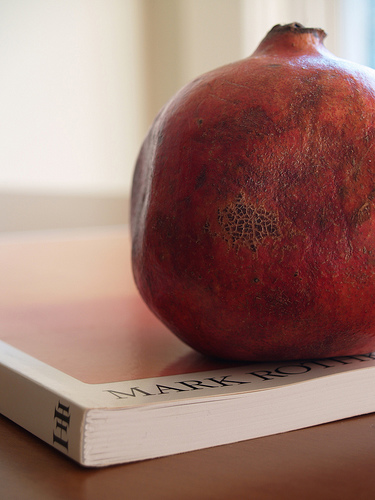pomogranate: (127, 21, 373, 365)
